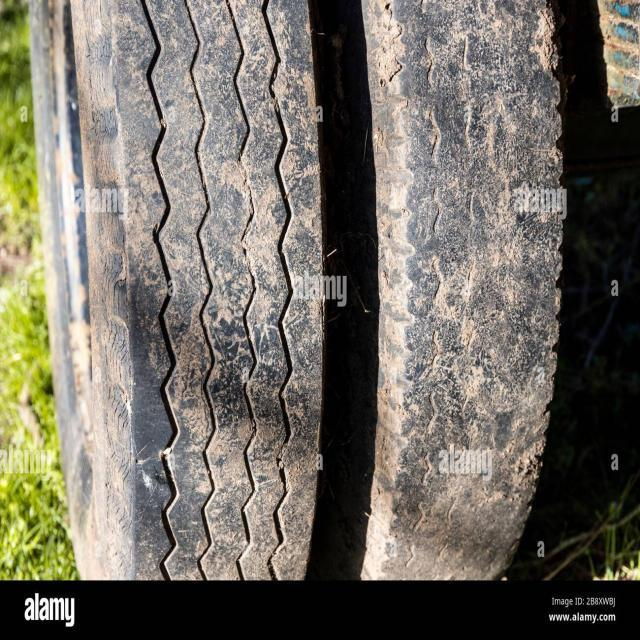Flat spots: (390, 0, 551, 581)
